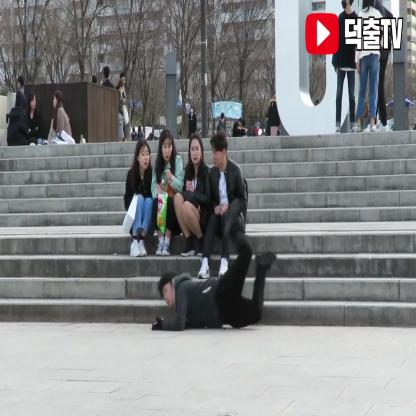Fall_Down: (149, 196, 279, 337)
